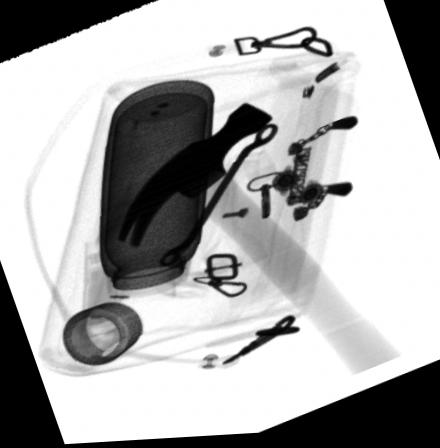Hammer: (115, 105, 402, 378)
Wrench: (158, 125, 281, 270)
